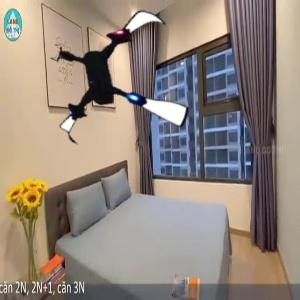drone: (44, 4, 202, 162)
